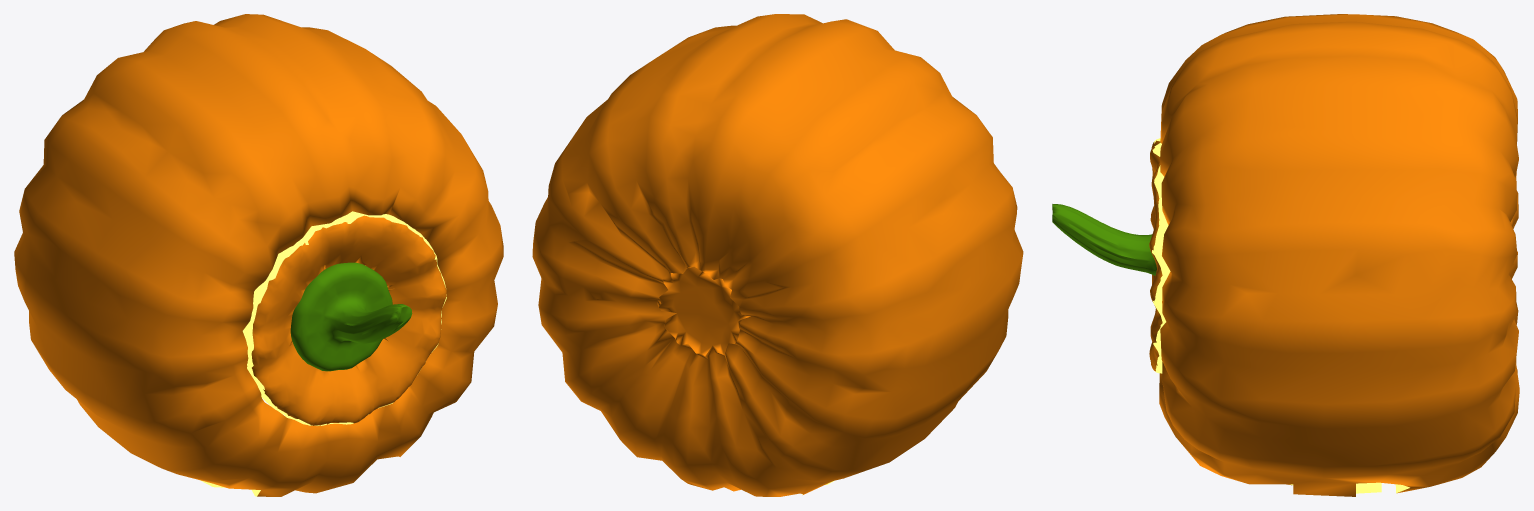
The model's file is float-ringD.glb.
3 renders of one model, left to right at view 1: azimuth 30°, elevation 25°; view 2: azimuth 150°, elevation 25°; view 3: azimuth 270°, elevation 25°, orthographic. The views are drawn at different scales.
Visible parts, largest first — view 1: Top; view 2: Top; view 3: Top.
Part boxes in pixels (x1,y1,x2,y2): Top: (14, 14, 503, 496); Top: (532, 14, 1023, 496); Top: (1052, 14, 1519, 496).
Bounding box in the file's own units: 0.7435 × 0.7479 × 0.7226.
